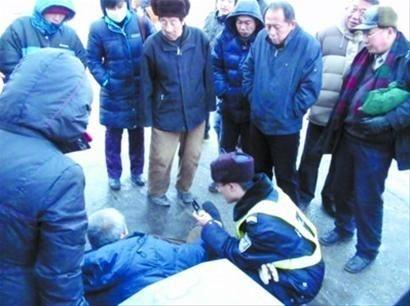falling: (77, 203, 210, 299)
